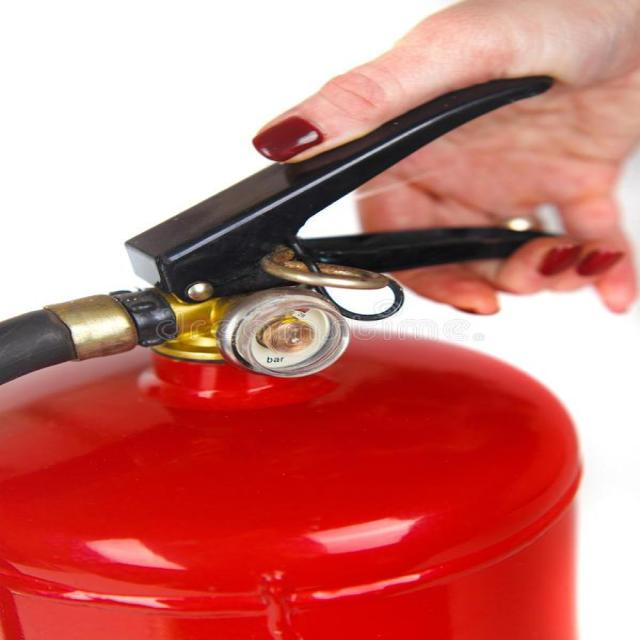fire_extinguisher: (0, 71, 596, 639)
